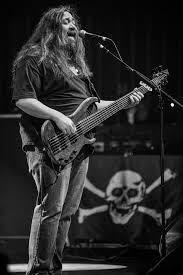Jolly Roger Flag: (74, 154, 183, 253)
